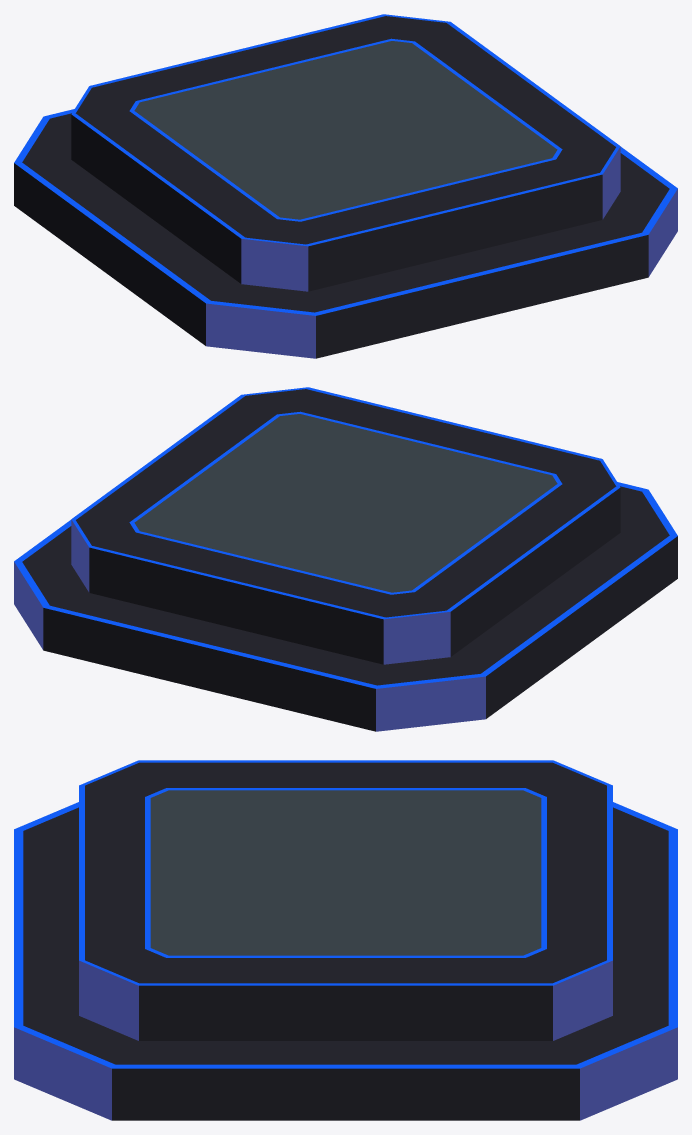
Rendered from Stage.glb.
The picture shows the model from 3 angles, top to bottom: view 1: azimuth 30°, elevation 25°; view 2: azimuth 150°, elevation 25°; view 3: azimuth 270°, elevation 25°; orthographic projection. The views are drawn at different scales.
Visible parts, largest first — view 1: Cube; view 2: Cube; view 3: Cube.
Part boxes in pixels (box(x1,y1,x2,y2)): Cube: box(14, 14, 677, 358); Cube: box(14, 387, 677, 731); Cube: box(14, 760, 677, 1120).
Bounding box in the file's own units: 6.75 × 1.2 × 6.75.
